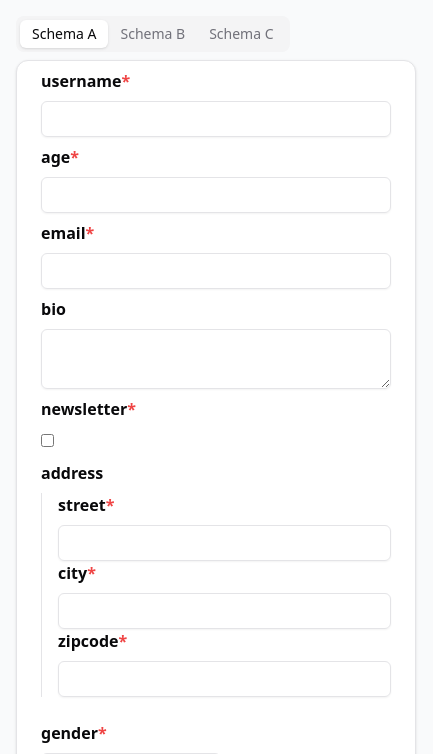
Test: template spec › Negative test Schema B
The width and height of the screenshot is (433, 754).
Check: the tab "Schema A" is shown, box [20,20,108,48]
Check: the tab "Schema C" is shown, box [197,20,286,48]
Click the tab "Schema B" at (154, 34), box [109,20,198,48]
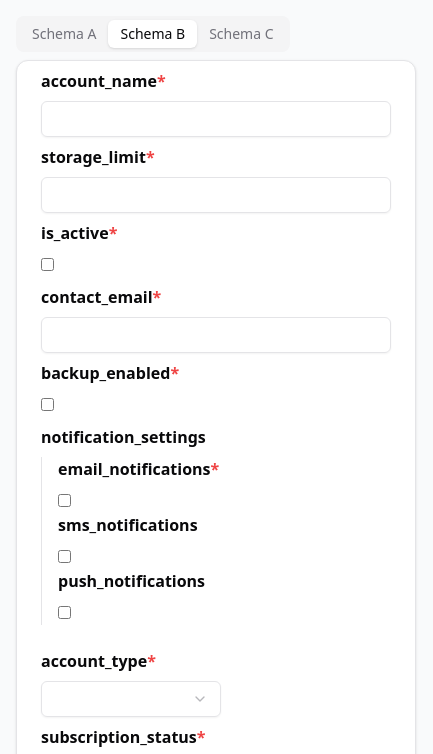
Scroll
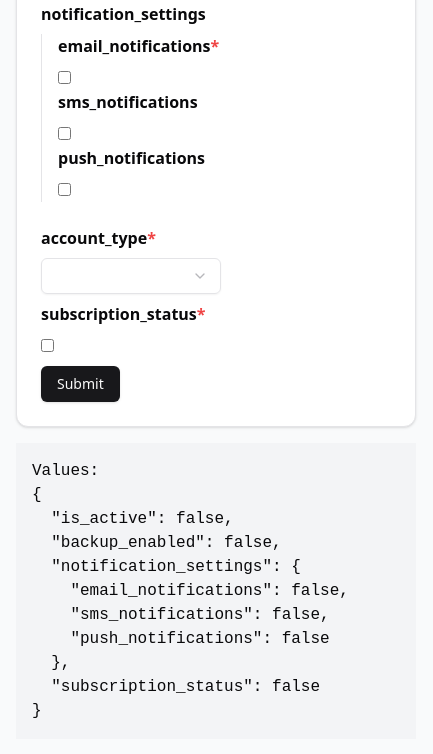
Click the button "Submit" at (81, 384), box [41,366,120,402]
(page scrolled)
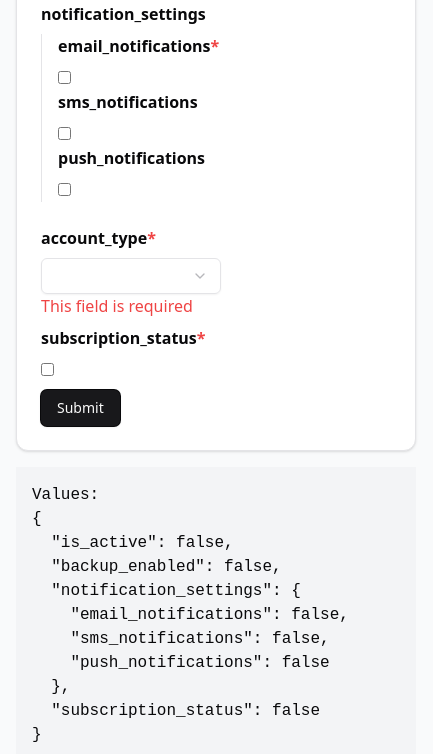
Check: the text "This field is required" is shown, box [41,295,193,317]
